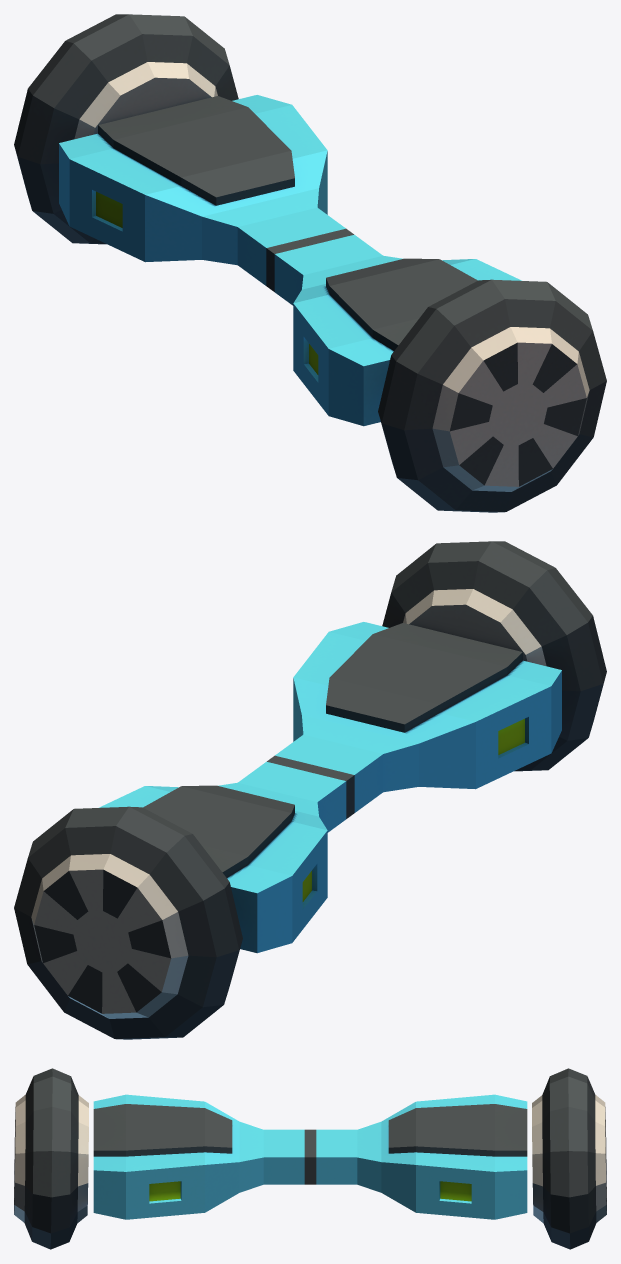
The model's file is 5a6e719c-8051-42b4-b2ba-ea0eca4a9257.glb.
3 renders of one model, top to bottom at view 1: azimuth 30°, elevation 25°; view 2: azimuth 150°, elevation 25°; view 3: azimuth 270°, elevation 25°, orthographic. The views are drawn at different scales.
Parts seen in each view (by area): view 1: PUSHILIN_Hoverboard_Torus.003; view 2: PUSHILIN_Hoverboard_Torus.003; view 3: PUSHILIN_Hoverboard_Torus.003.
Part boxes in pixels (x1,y1,x2,y2): PUSHILIN_Hoverboard_Torus.003: (14, 14, 606, 512); PUSHILIN_Hoverboard_Torus.003: (14, 541, 606, 1039); PUSHILIN_Hoverboard_Torus.003: (14, 1068, 606, 1249).
Bounding box in the file's own units: 0.7768 × 0.7728 × 2.52.
Materials: 1 (1 with a texture image).
